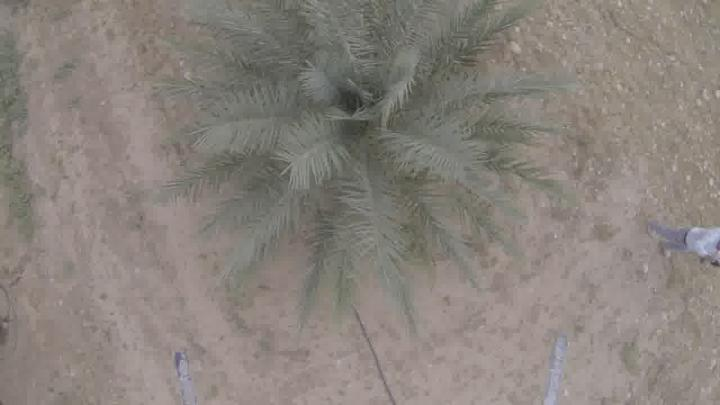Date-Palm-Crown: (257, 0, 501, 214)
